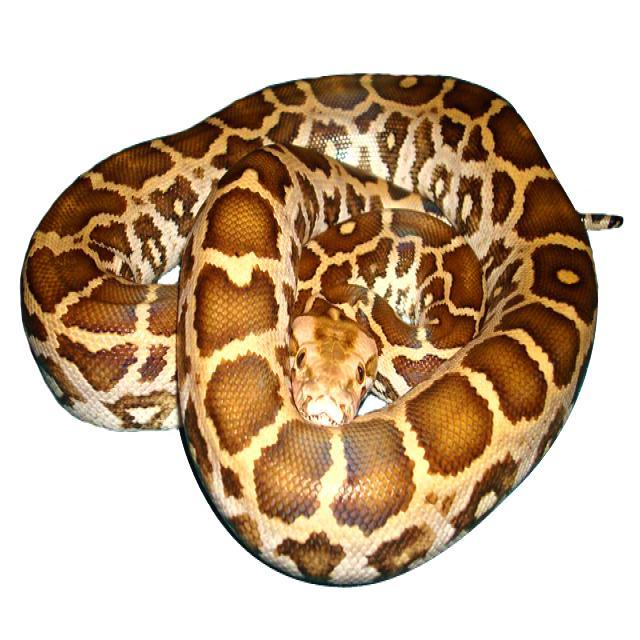Snake: (19, 70, 623, 586)
